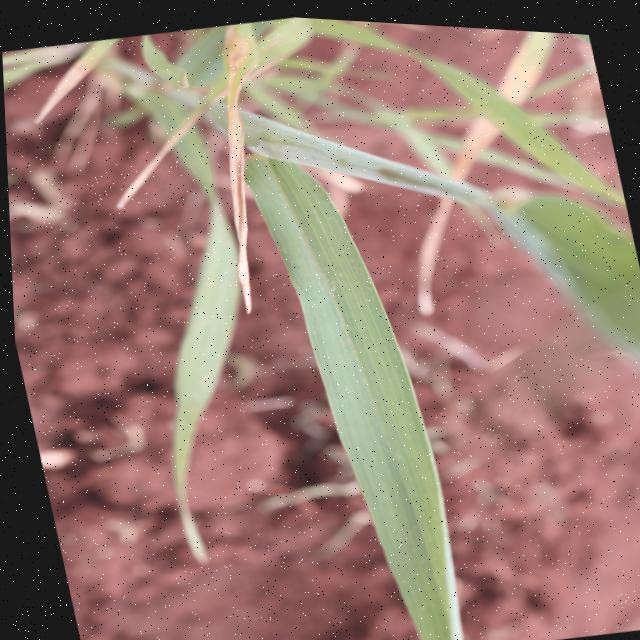healthy_wheat: (249, 133, 470, 640), (119, 243, 278, 541), (480, 149, 640, 403), (247, 70, 482, 238), (445, 21, 591, 61)
